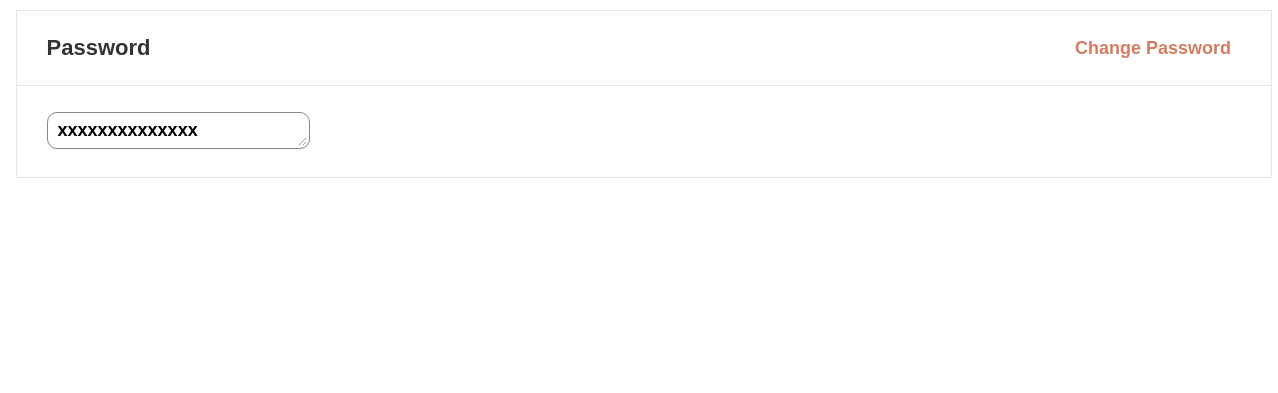
Test: new password › keeps listing them while the user types again, until it is long enough
The image size is (1278, 393).
Click the button "Change Password": (1152, 48) x1=1072 y1=37 x2=1232 y2=59
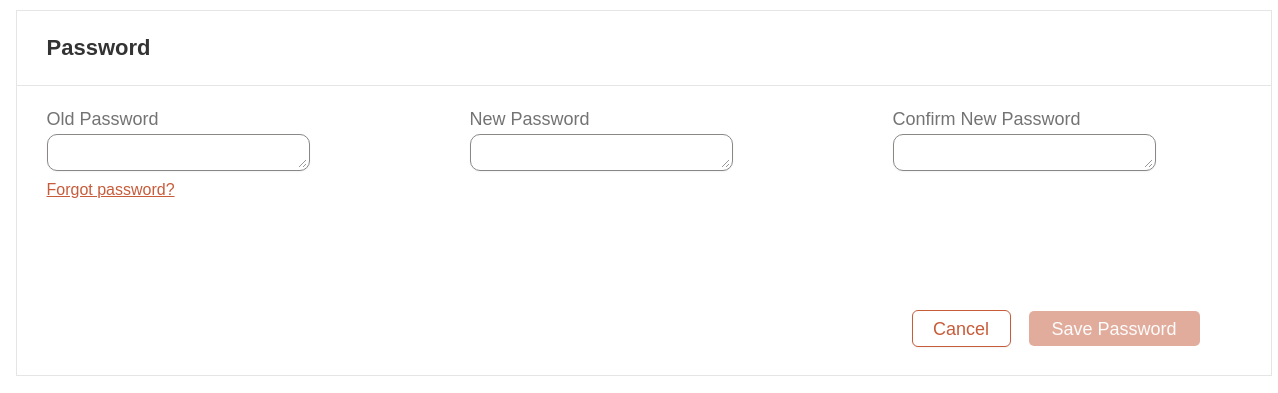
In the password field with test id "newPassword": (601, 152) x1=470 y1=134 x2=732 y2=171, type "short"
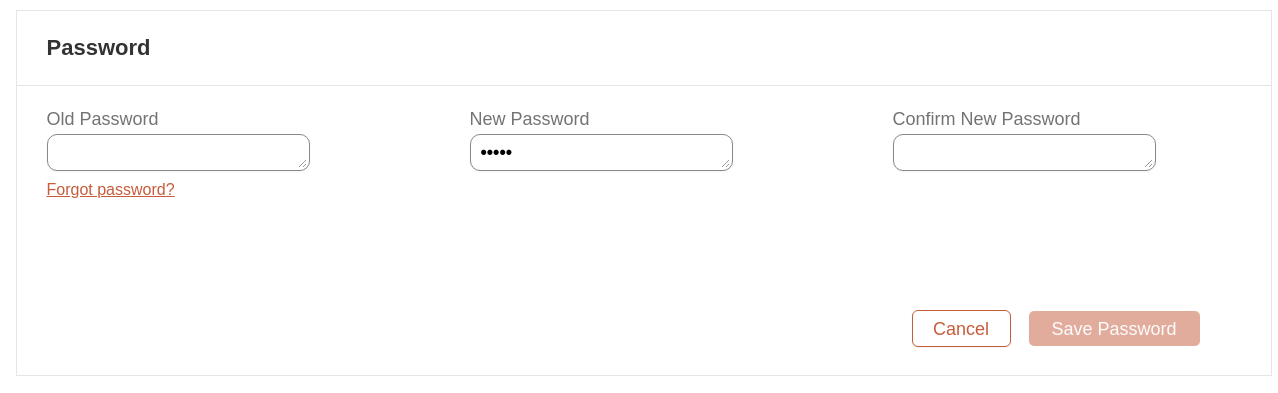
Leave the password field with test id "newPassword", box x1=470 y1=134 x2=732 y2=171
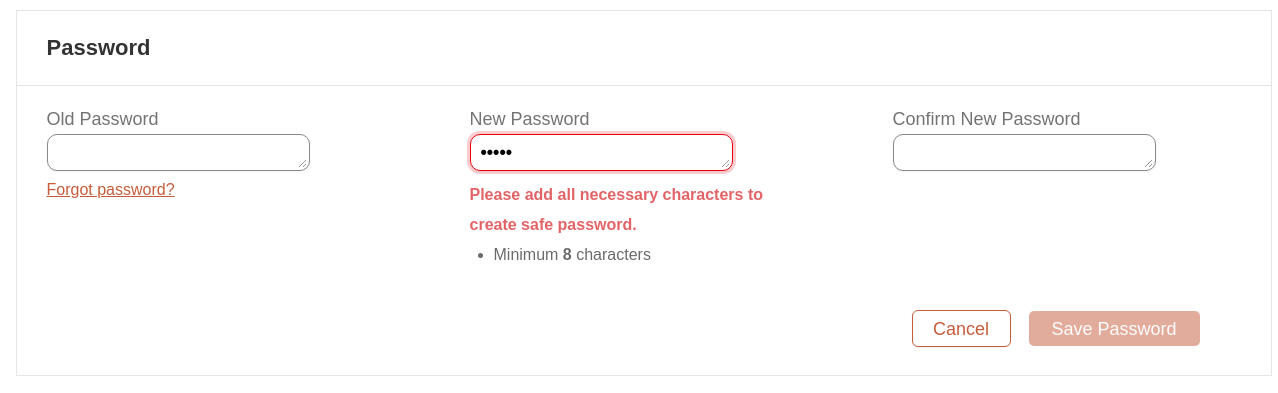
expect the list item "Minimum 8 characters" is shown: met, box x1=494 y1=246 x2=651 y2=263
Clear the password field with test id "newPassword": (601, 152) x1=470 y1=134 x2=732 y2=171
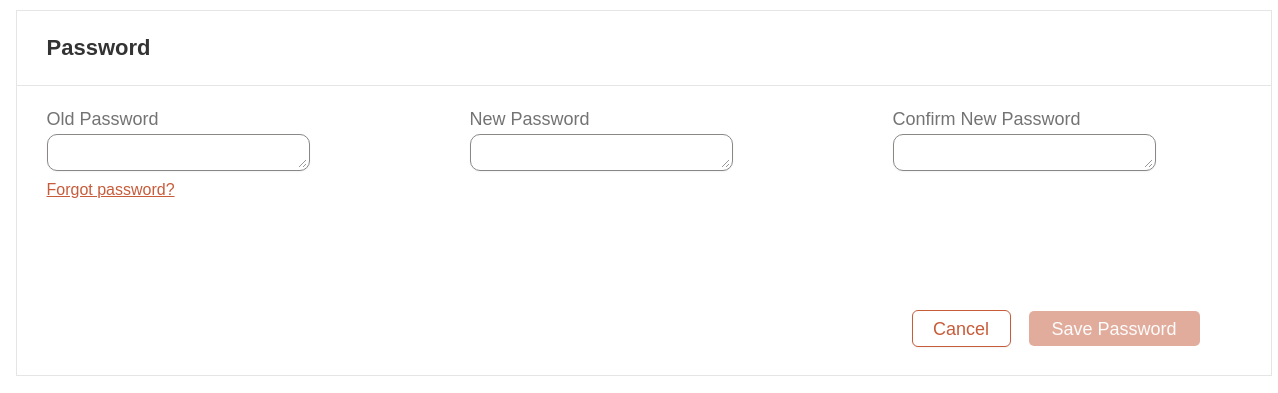
In the password field with test id "newPassword": (601, 152) x1=470 y1=134 x2=732 y2=171, type "sho"
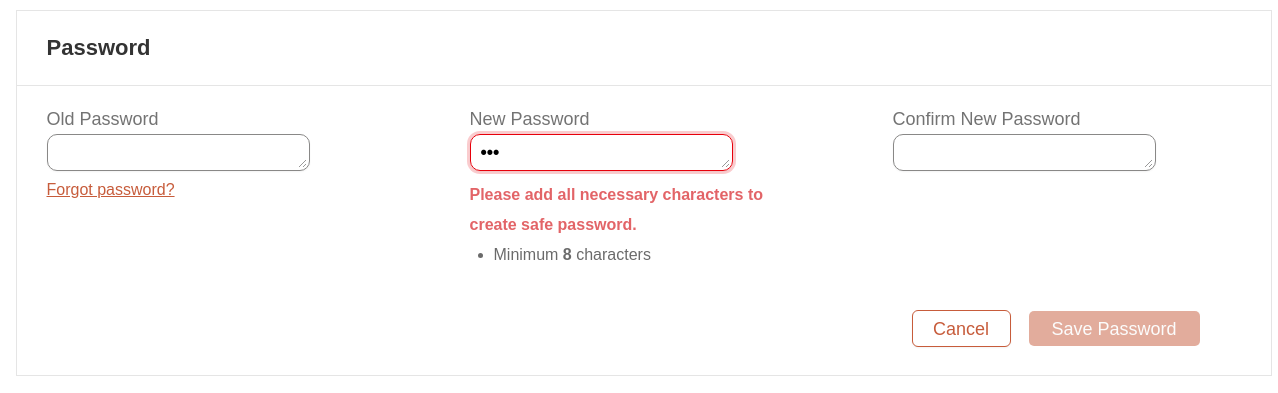
expect the list item "Minimum 8 characters" is shown: met, box x1=494 y1=246 x2=651 y2=263
In the password field with test id "newPassword": (601, 152) x1=470 y1=134 x2=732 y2=171, type "long enough"
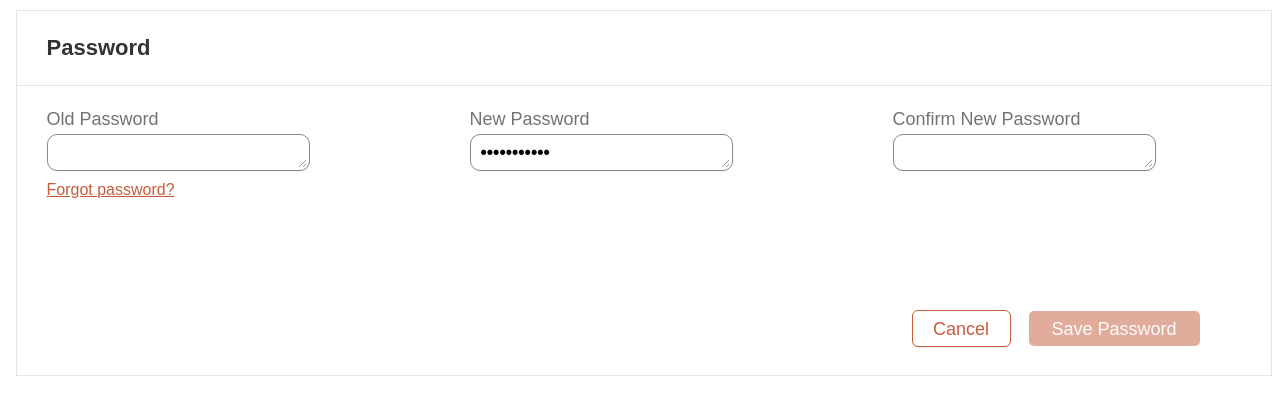
expect the list item "Minimum" is gone: met
